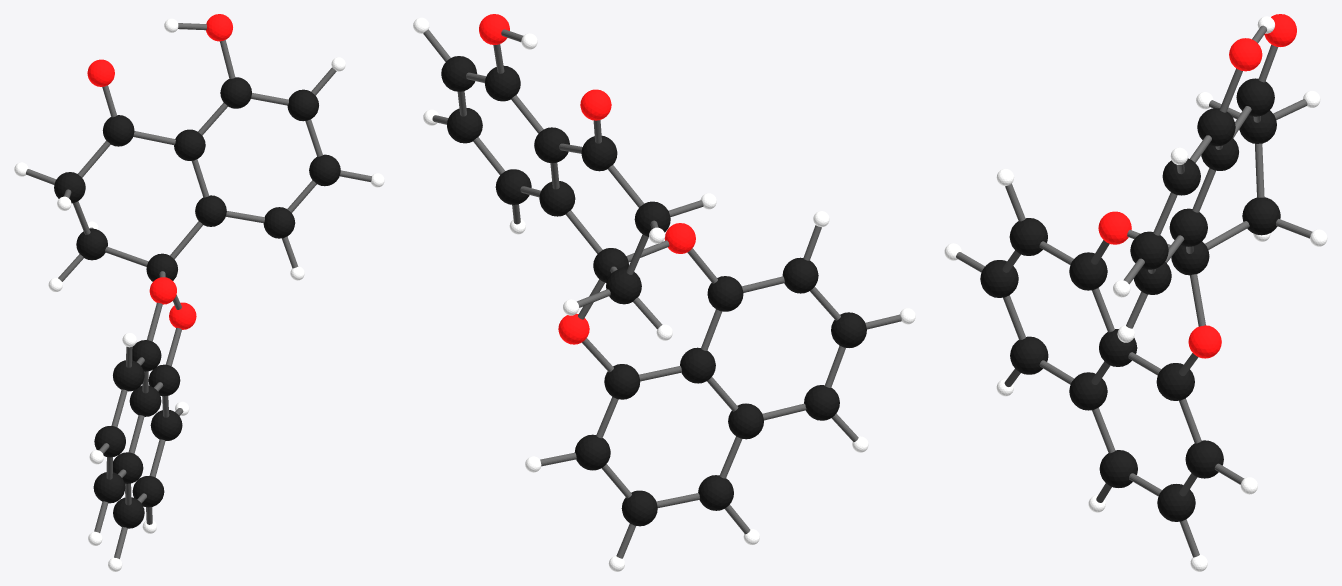
File: molecule.glb
The picture shows the model from 3 angles, left to right: view 1: azimuth 30°, elevation 25°; view 2: azimuth 150°, elevation 25°; view 3: azimuth 270°, elevation 25°; orthographic projection. The views are drawn at different scales.
Visible parts, largest first — view 1: geometry_17, geometry_18, geometry_1, geometry_21, geometry_23, geometry_19, geometry_20, geometry_3, geometry_11, geometry_9, geometry_7, geometry_15 (+12 smaller); view 2: geometry_9, geometry_13, geometry_15, geometry_6, geometry_12, geometry_11, geometry_7, geometry_14, geometry_8, geometry_10, geometry_17, geometry_3 (+12 smaller); view 3: geometry_9, geometry_13, geometry_3, geometry_7, geometry_11, geometry_19, geometry_1, geometry_6, geometry_17, geometry_12, geometry_10, geometry_8 (+12 smaller).
Boxes of the visible parts, x1,y1,x2,y2 form: geometry_17: [195, 195, 226, 226]; geometry_18: [263, 207, 295, 238]; geometry_1: [102, 115, 134, 146]; geometry_21: [220, 77, 251, 108]; geometry_23: [174, 129, 205, 160]; geometry_19: [309, 154, 340, 186]; geometry_20: [287, 89, 318, 121]; geometry_3: [76, 228, 107, 260]; geometry_11: [113, 497, 144, 528]; geometry_9: [93, 472, 125, 503]; geometry_7: [113, 360, 144, 391]; geometry_15: [129, 385, 161, 416]; geometry_9: [804, 385, 839, 420]; geometry_13: [574, 434, 610, 470]; geometry_15: [680, 347, 715, 383]; geometry_6: [707, 276, 743, 311]; geometry_12: [621, 490, 657, 526]; geometry_11: [698, 475, 733, 510]; geometry_7: [782, 257, 818, 293]; geometry_14: [604, 364, 640, 399]; geometry_8: [831, 312, 866, 347]; geometry_10: [728, 403, 763, 439]; geometry_17: [539, 181, 575, 216]; geometry_3: [606, 268, 641, 304]; geometry_9: [1010, 336, 1048, 374]; geometry_13: [1185, 440, 1223, 478]; geometry_3: [1242, 197, 1280, 235]; geometry_7: [1009, 218, 1047, 255]; geometry_11: [1099, 450, 1137, 487]; geometry_19: [1130, 231, 1168, 269]; geometry_1: [1236, 78, 1274, 116]; geometry_6: [1069, 252, 1107, 290]; geometry_17: [1169, 208, 1207, 246]; geometry_12: [1157, 484, 1195, 521]; geometry_10: [1069, 372, 1107, 410]; geometry_8: [980, 260, 1018, 297].
Size of the model in its own units: 0.2025 by 0.2574 by 0.153.
